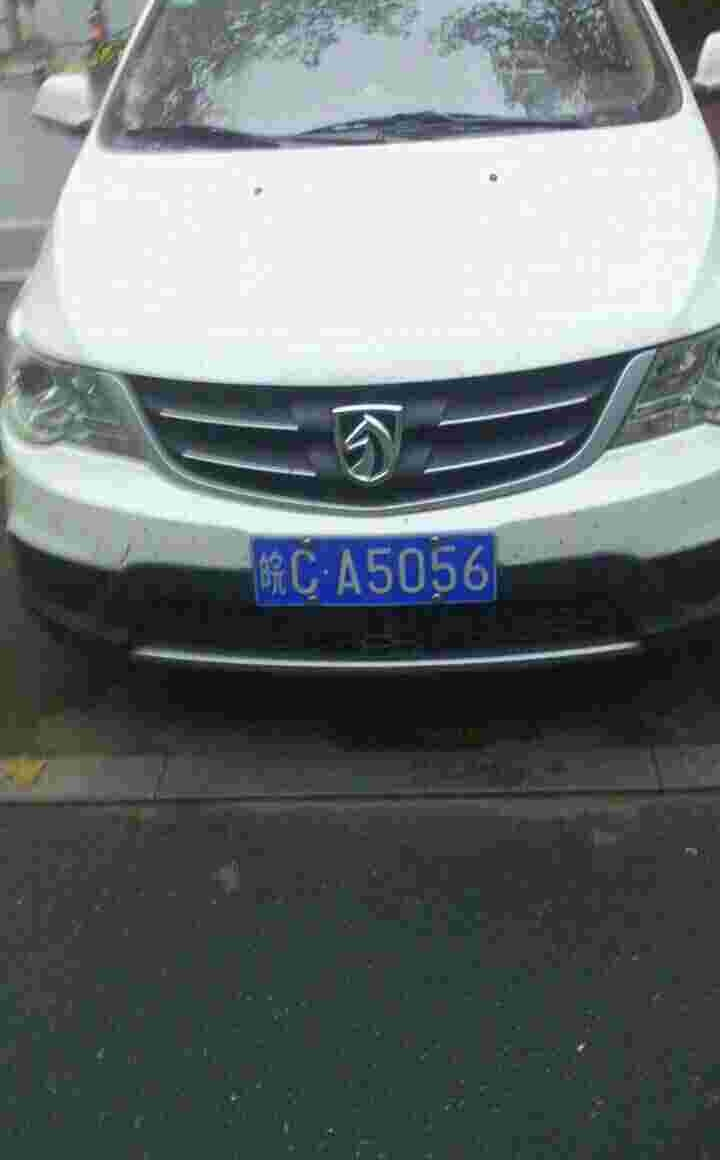plate: (253, 530, 502, 612)
